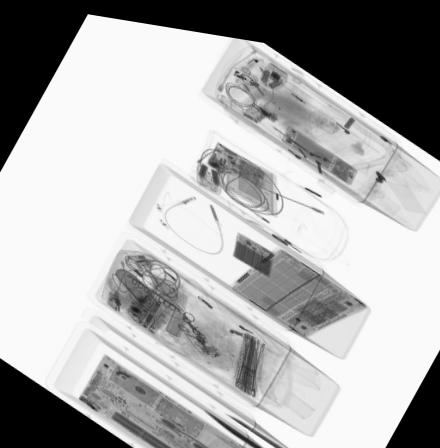Powerbank: (225, 139, 274, 208)
